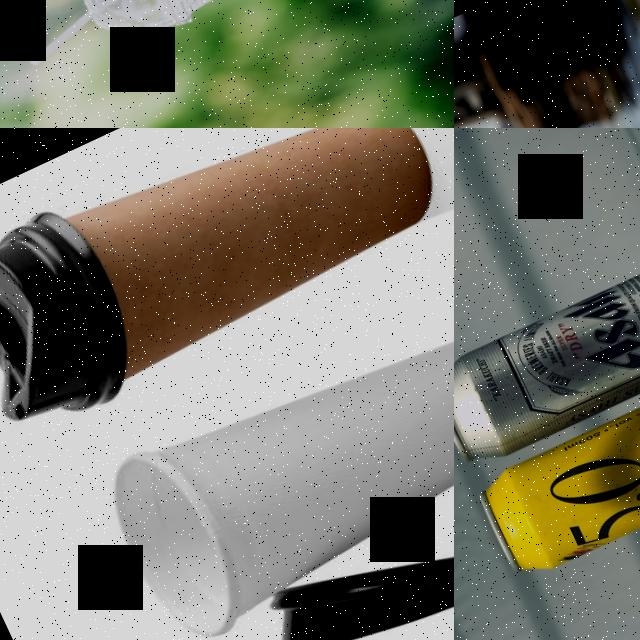can: (454, 210, 640, 473), (472, 320, 640, 585)
cup: (0, 128, 454, 446), (92, 293, 454, 640), (62, 0, 375, 56)
